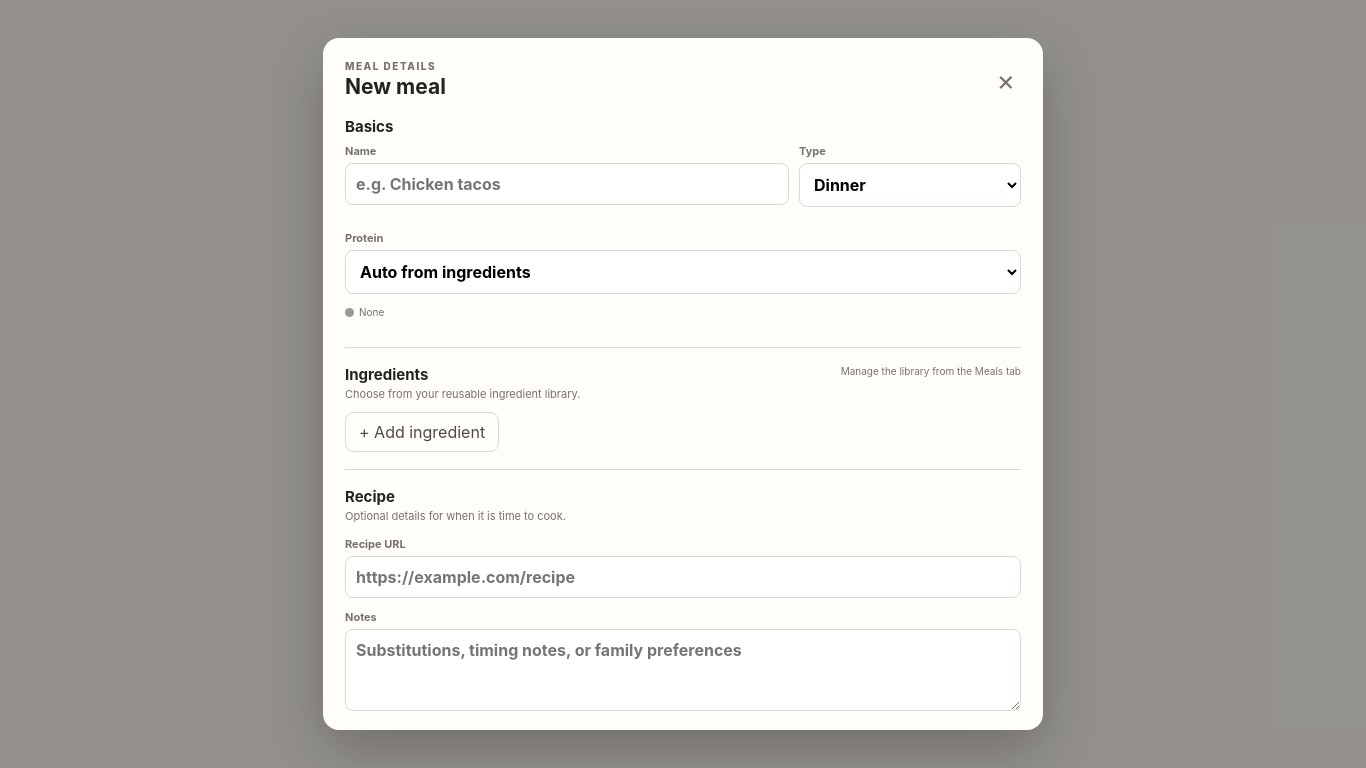
Test: MealForm ingredient picker › filters ingredient options as the user types and selects a result
Click the button "+ Add ingredient".
click(422, 432)  # box [345,412,499,452]
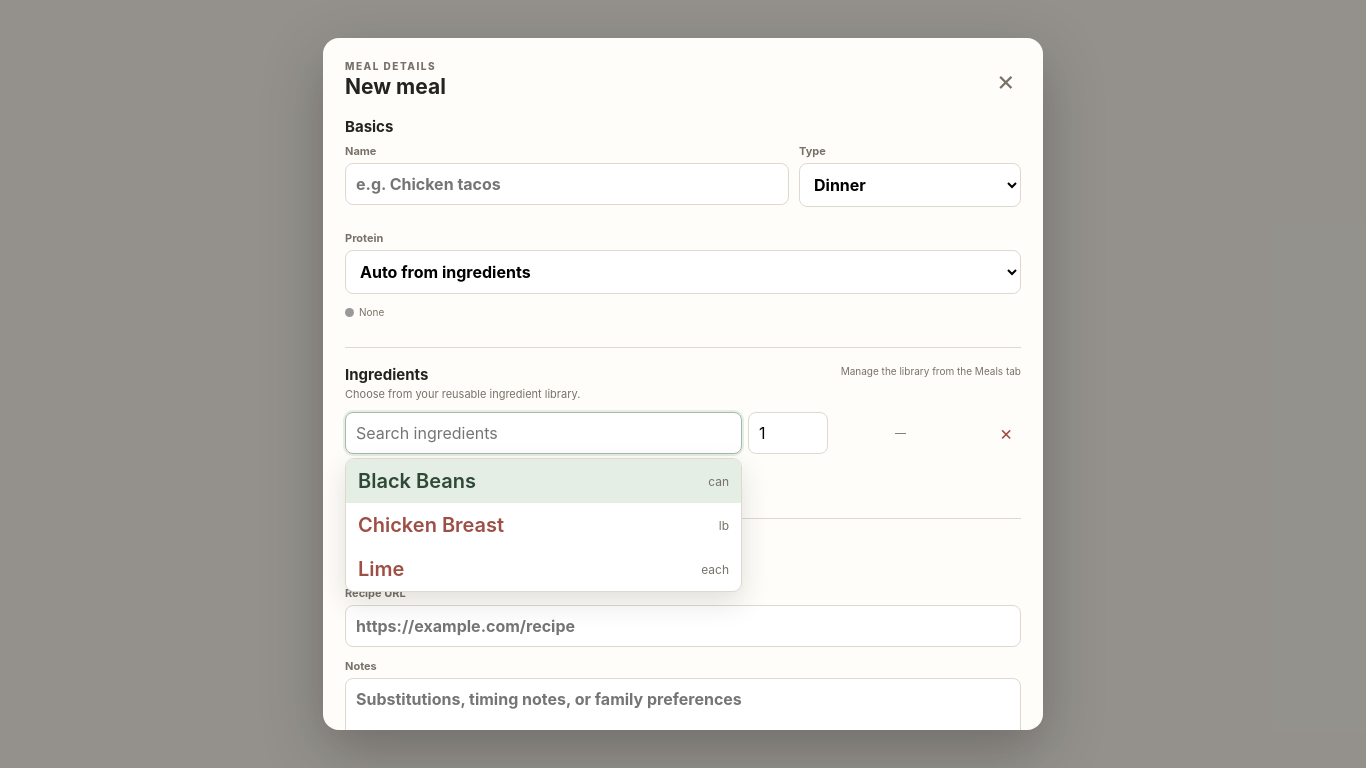
Type "chick" into the dropdown named "Ingredient 1".
click(544, 433); type("chick")  # box [345,412,742,454]
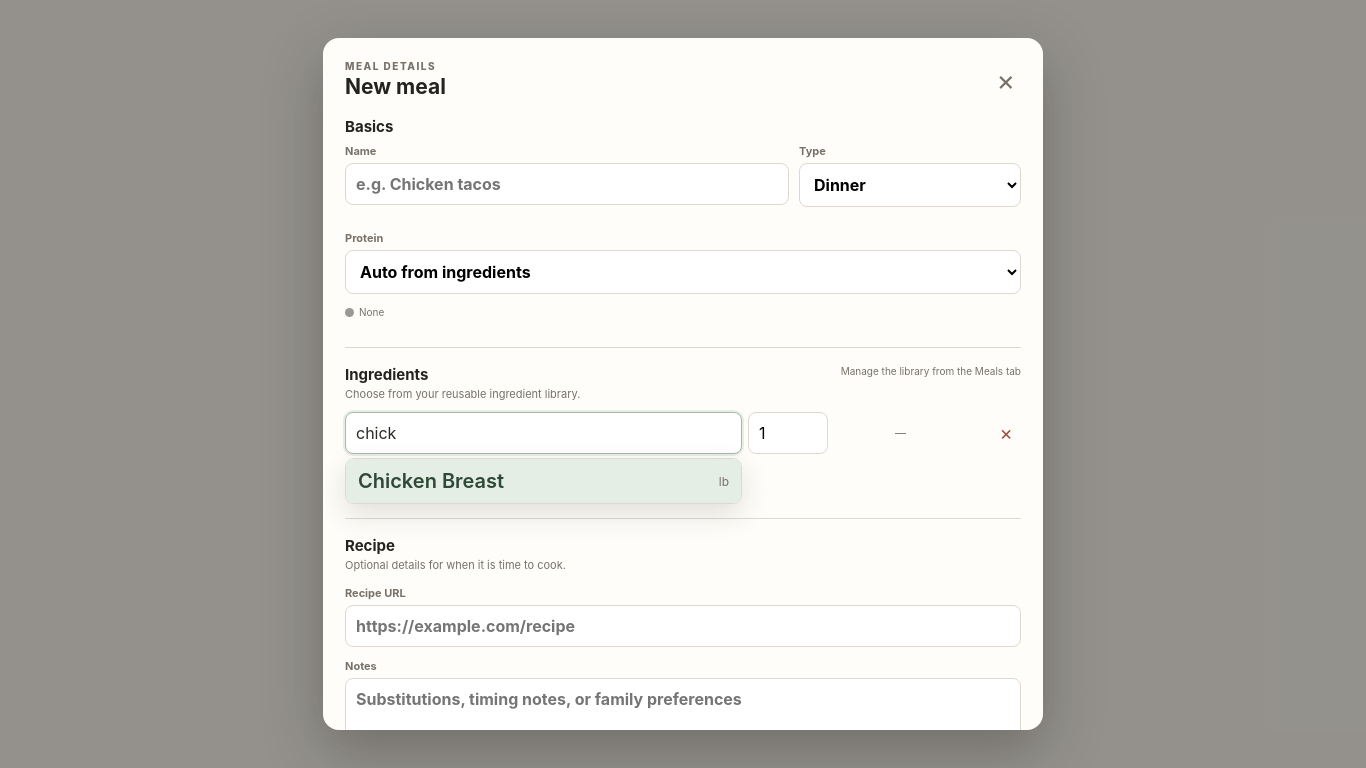
Check: the option "Chicken Breast lb" is shown
Check: the option "Black Beans" is gone
Click the option "Chicken Breast lb".
click(431, 481)  # box [346,459,741,503]
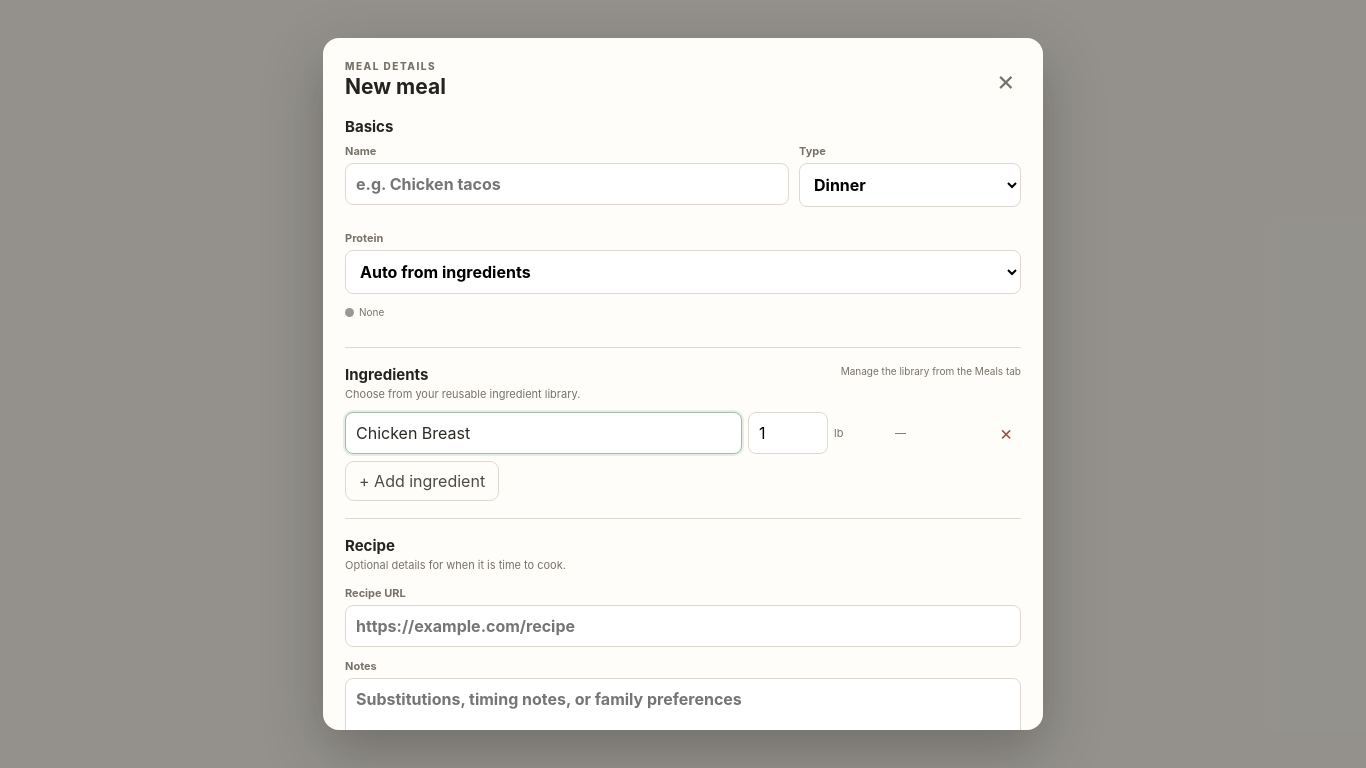
Check: the dropdown named "Ingredient 1" holds "Chicken Breast", box [345,412,742,454]
